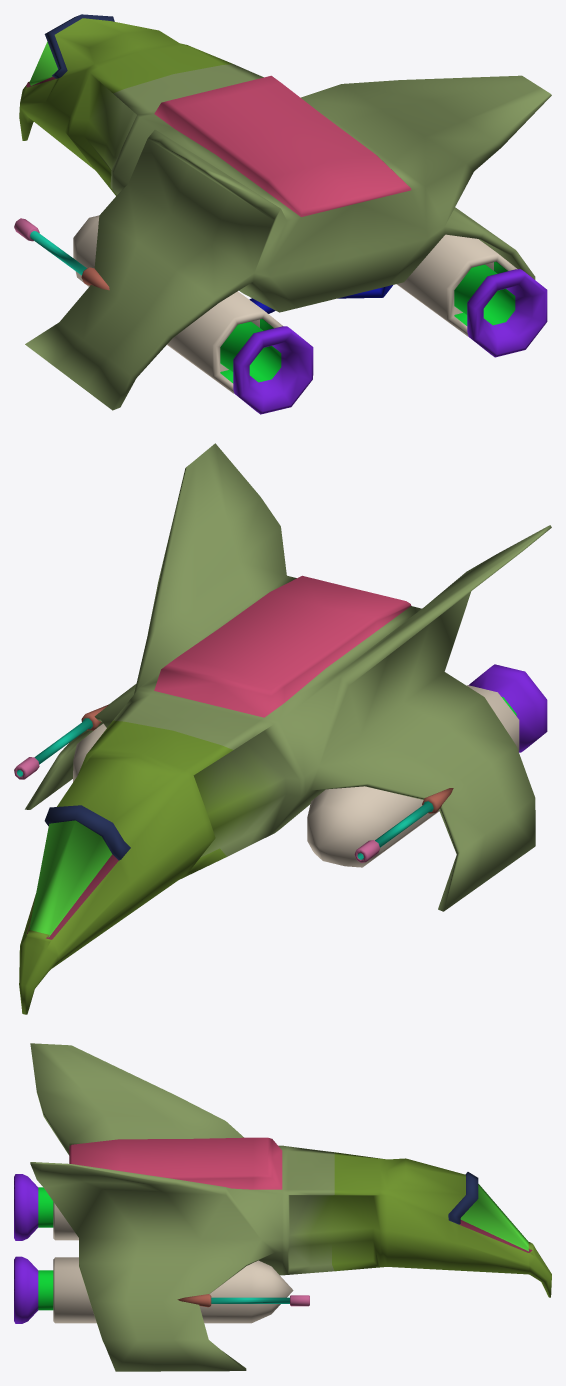
The model's file is PlayerShip_Export.fbx.
3 views of the same model, one above another, from view 1: azimuth 30°, elevation 25°; view 2: azimuth 150°, elevation 25°; view 3: azimuth 270°, elevation 25° (orthographic). The views are drawn at different scales.
Visible parts, largest first — view 1: player_spaceship; view 2: player_spaceship; view 3: player_spaceship.
Boxes of the visible parts, <box> form: player_spaceship: <box>14,14,551,414</box>; player_spaceship: <box>14,443,551,1014</box>; player_spaceship: <box>14,1043,551,1371</box>.
Bounding box in the file's own units: 490 × 296 × 743.
